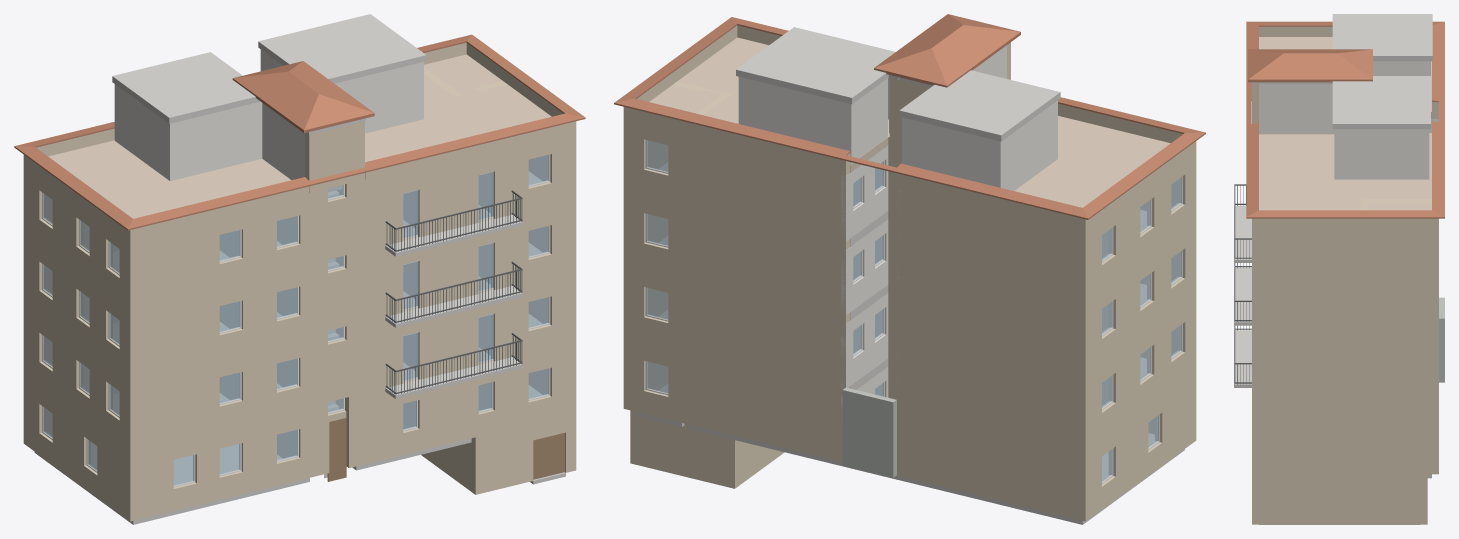
Rendered from estado-actual.glb.
The picture shows the model from 3 angles, left to right: view 1: azimuth 30°, elevation 25°; view 2: azimuth 150°, elevation 25°; view 3: azimuth 270°, elevation 25°; orthographic projection. The views are drawn at different scales.
Visible parts, largest first — view 1: p3__fachada, p2__fachada, p1__fachada, pb__fachada, cubierta__terraza, cubierta__muro, cubierta__teja, cubierta__forjado, cubierta__fachada, sotano__fachada, p3__vidrio, p1__vidrio (+22 smaller); view 2: p3__fachada, p1__fachada, p2__fachada, pb__fachada, cubierta__muro, cubierta__teja, cubierta__forjado, cubierta__terraza, cubierta__fachada, sotano__fachada, pb__contexto, p2__muro (+10 smaller); view 3: p3__fachada, p1__fachada, p2__fachada, sotano__fachada, cubierta__teja, cubierta__terraza, pb__fachada, cubierta__forjado, cubierta__muro, cubierta__fachada, p1__forjado, p2__forjado (+5 smaller).
Part boxes in pixels (x1,y1,x2,y2): p3__fachada: [23, 67, 576, 307]; p2__fachada: [23, 199, 576, 378]; p1__fachada: [23, 270, 576, 450]; pb__fachada: [23, 341, 576, 521]; cubierta__terraza: [48, 54, 551, 218]; cubierta__muro: [114, 49, 423, 180]; cubierta__teja: [14, 34, 585, 230]; cubierta__forjado: [112, 14, 426, 134]; cubierta__fachada: [23, 42, 576, 236]; sotano__fachada: [421, 373, 576, 494]; p3__vidrio: [43, 154, 548, 273]; p1__vidrio: [43, 297, 548, 415]; p3__fachada: [623, 81, 1196, 299]; p1__fachada: [623, 261, 1196, 447]; p2__fachada: [623, 187, 1196, 373]; pb__fachada: [623, 335, 1196, 521]; cubierta__muro: [738, 45, 1057, 190]; cubierta__teja: [614, 14, 1205, 219]; cubierta__forjado: [736, 27, 1060, 141]; cubierta__terraza: [649, 37, 1170, 207]; cubierta__fachada: [623, 25, 1196, 226]; sotano__fachada: [630, 370, 784, 488]; pb__contexto: [842, 387, 896, 477]; p2__muro: [841, 219, 1108, 331]; p3__fachada: [1252, 112, 1438, 286]; p1__fachada: [1252, 349, 1438, 411]; p2__fachada: [1252, 287, 1438, 349]; sotano__fachada: [1252, 462, 1427, 524]; cubierta__teja: [1246, 21, 1444, 218]; cubierta__terraza: [1259, 37, 1431, 210]; pb__fachada: [1252, 412, 1438, 474]; cubierta__forjado: [1251, 14, 1432, 129]; cubierta__muro: [1259, 61, 1430, 179]; cubierta__fachada: [1252, 26, 1438, 224]; p1__forjado: [1234, 330, 1251, 387]; p2__forjado: [1234, 268, 1251, 325].
Bounding box in the file's own units: 19.7 × 17.49 × 8.97.
